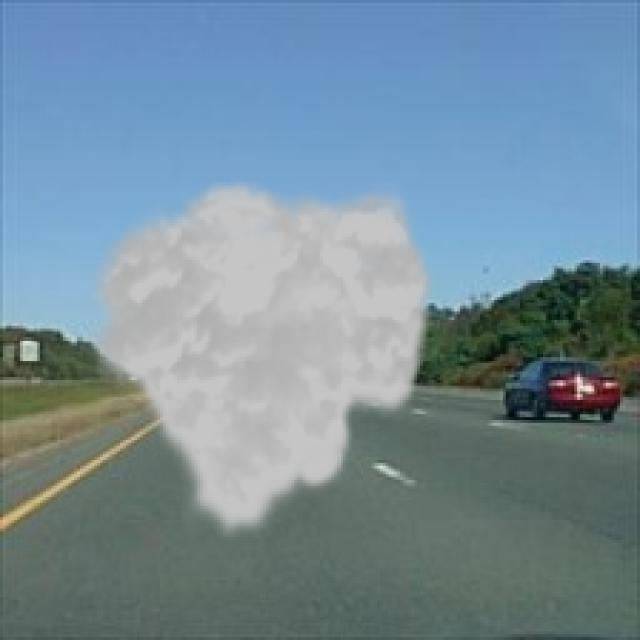Smoke: (83, 177, 440, 543)
